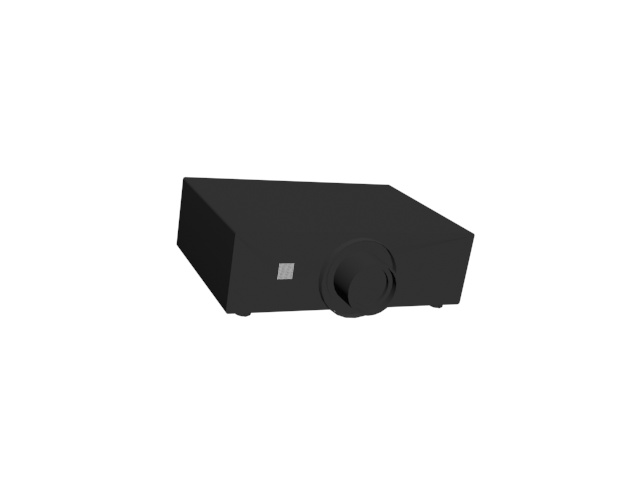projector: (177, 177, 480, 320)
